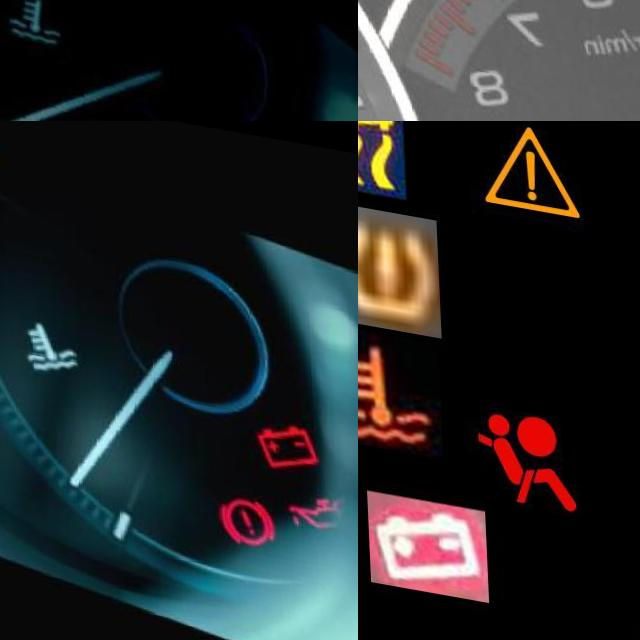Central Warning lamp: (468, 121, 590, 226)
Engine cooling system: (358, 322, 438, 453), (0, 0, 78, 56)
High Engine Coolant Temperature: (12, 315, 78, 384)
